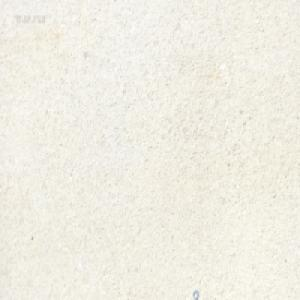Washer: (193, 288, 199, 299)
